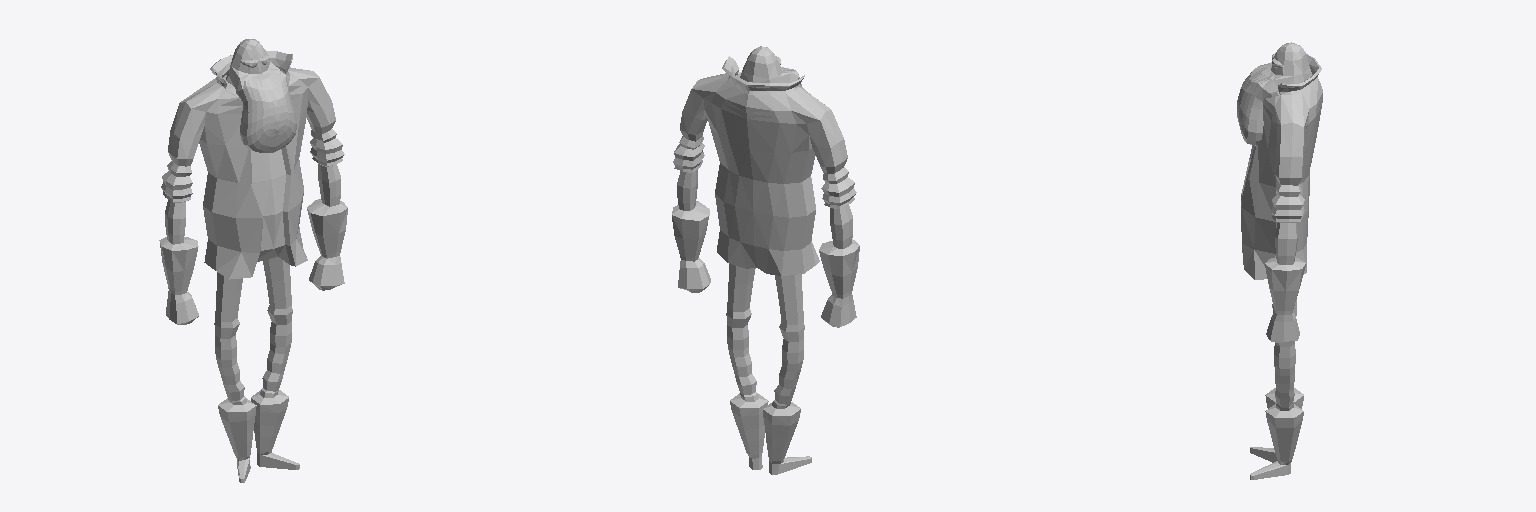
File: fisherman.obj
3 views of the same model, side by side, from view 1: azimuth 30°, elevation 25°; view 2: azimuth 150°, elevation 25°; view 3: azimuth 270°, elevation 25° (orthographic).
Visible parts, largest first — view 1: Cylinder.002_Cylinder.001; view 2: Cylinder.002_Cylinder.001; view 3: Cylinder.002_Cylinder.001.
Part boxes in pixels (left/top/right/bottom): Cylinder.002_Cylinder.001: left=159, top=39, right=347, bottom=482; Cylinder.002_Cylinder.001: left=672, top=46, right=859, bottom=474; Cylinder.002_Cylinder.001: left=1237, top=42, right=1322, bottom=479.
Size of the model in its own units: 3 by 6.71 by 1.24.